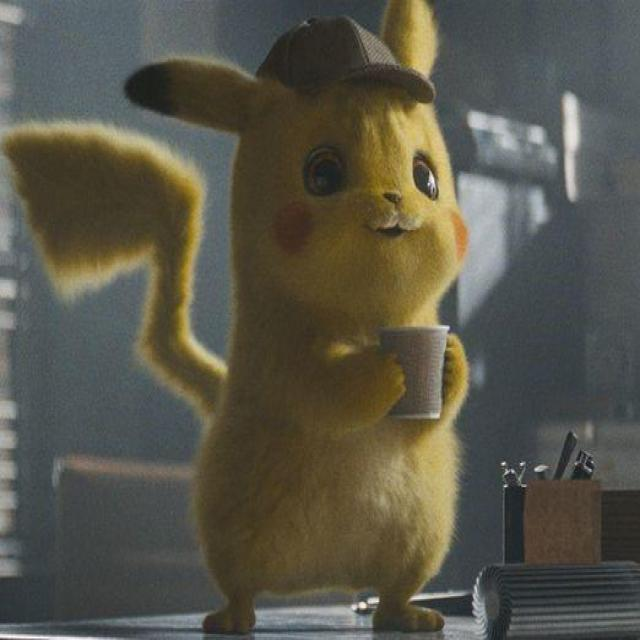pikachu: (0, 0, 471, 638)
